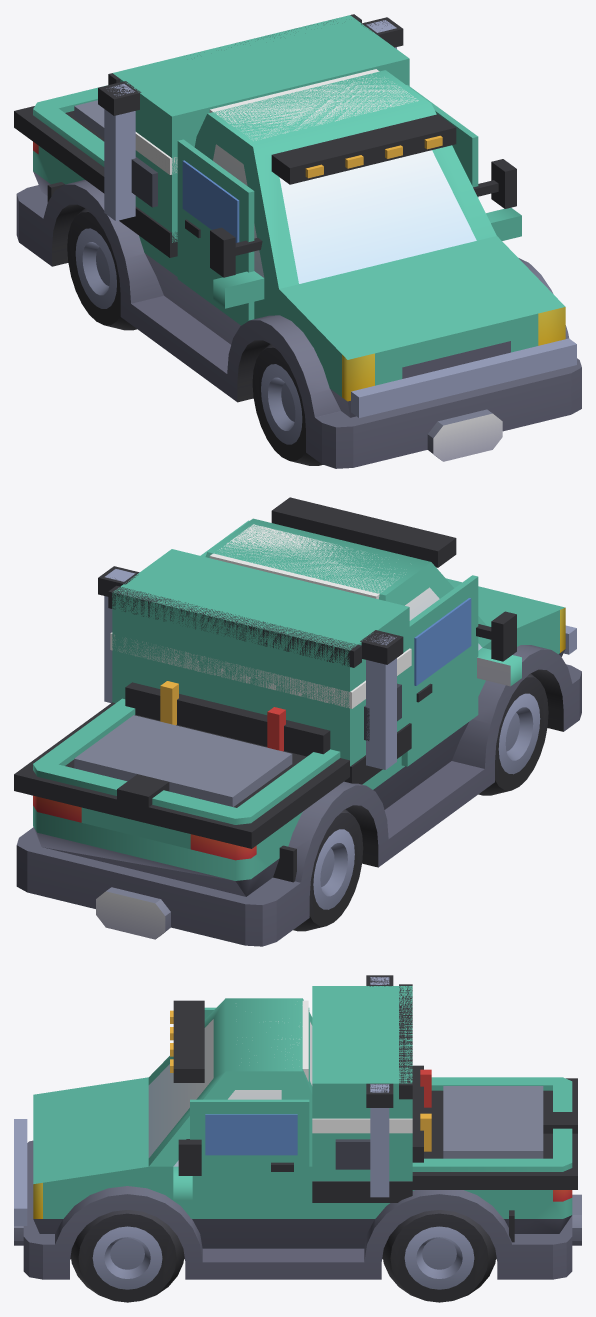
File: semi.glb
3 views of the same model, one above another, from view 1: azimuth 30°, elevation 25°; view 2: azimuth 150°, elevation 25°; view 3: azimuth 270°, elevation 25° (orthographic). The views are drawn at different scales.
Parts seen in each view (by area): view 1: body, bumper_front, door_right, wheel-back-right, wheel-front-right, mirror_right, mirror_left, door_left; view 2: body, bumper_rear, door_right, wheel-back-right, wheel-front-right, mirror_right; view 3: body, door_left, wheel-front-left, wheel-back-left, bumper_front, bumper_rear, mirror_left.
Boxes of the visible parts, box(x1,y1,x2,y2) form: body: box(14, 14, 576, 463); bumper_front: box(311, 358, 581, 468); door_right: box(177, 139, 254, 325); wheel-back-right: box(67, 208, 136, 330); wheel-front-right: box(252, 344, 322, 465); mirror_right: box(210, 227, 262, 277); mirror_left: box(473, 159, 516, 208); door_left: box(406, 85, 478, 197); body: box(14, 497, 579, 941); bumper_rear: box(16, 838, 299, 946); door_right: box(401, 575, 478, 766); wheel-back-right: box(293, 809, 363, 931); wheel-front-right: box(478, 673, 548, 795); mirror_right: box(476, 611, 516, 661); body: box(14, 975, 577, 1279); door_left: box(190, 1099, 309, 1218); wheel-front-left: box(70, 1210, 184, 1302); wheel-back-left: box(382, 1210, 496, 1302); bumper_front: box(14, 1140, 62, 1279); bumper_rear: box(515, 1194, 581, 1279); mirror_left: box(178, 1139, 201, 1175).
Bounding box in the file's own units: 1.5 × 1.3 × 2.95.
Materials: 1 (1 with a texture image).
